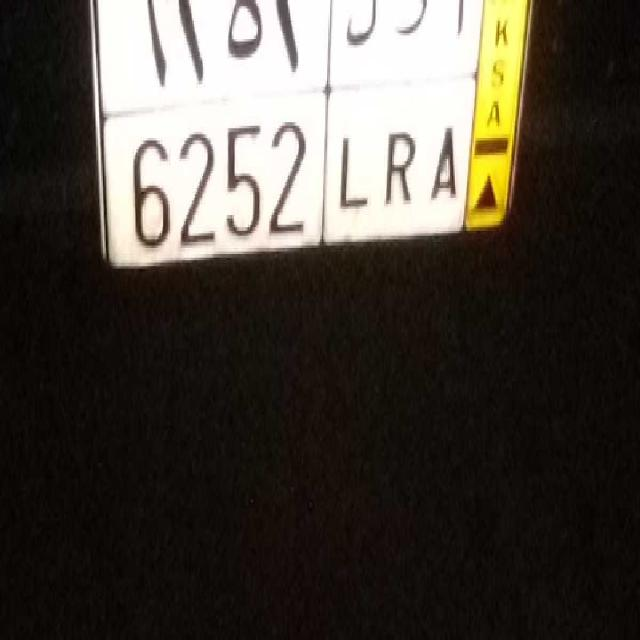license_plate: (104, 80, 467, 262)
